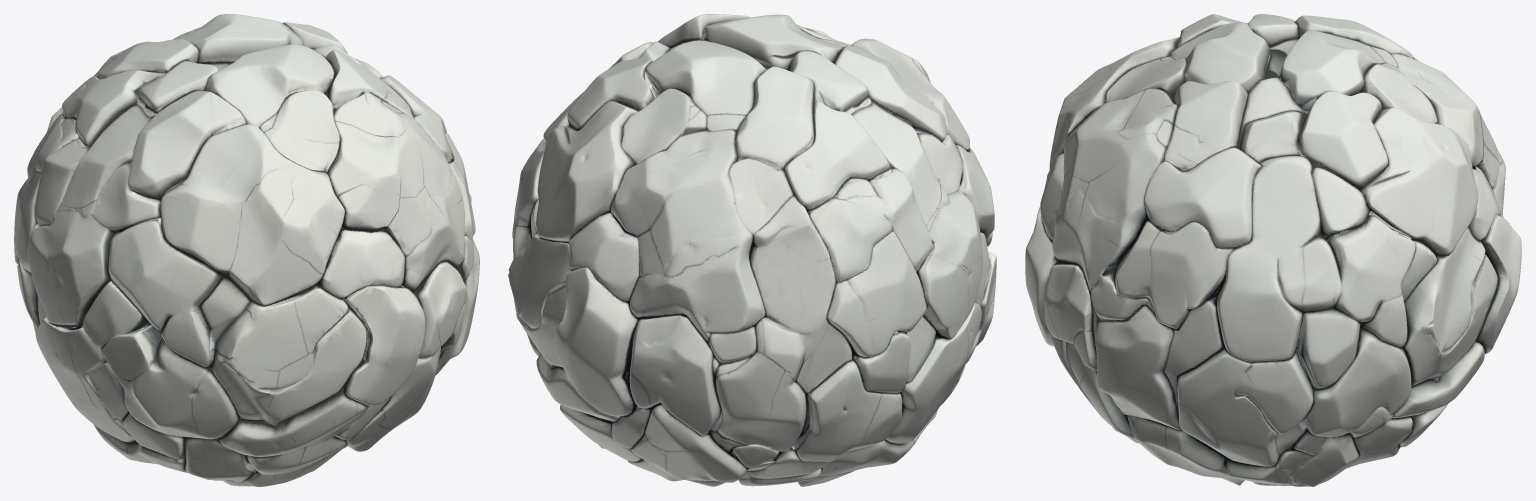
File: spherical_floating_final.glb
3 views of the same model, side by side, from view 1: azimuth 30°, elevation 25°; view 2: azimuth 150°, elevation 25°; view 3: azimuth 270°, elevation 25° (orthographic). The views are drawn at different scales.
Size of the model in its own units: 1.81 by 1.84 by 1.9.
1 material, 1 textured.
